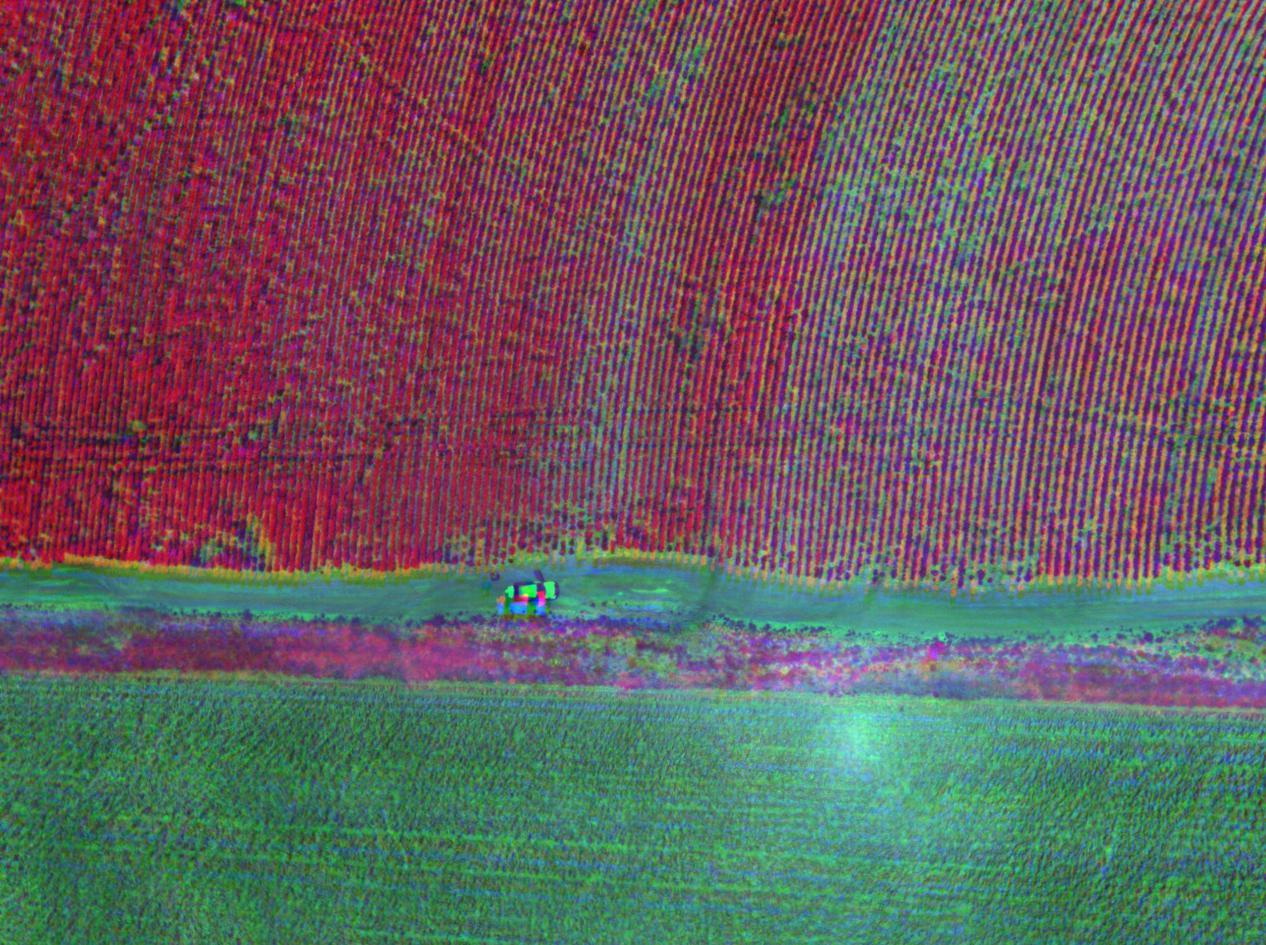dc: (838, 110, 958, 220), (1146, 3, 1266, 112), (1133, 155, 1237, 251), (1133, 488, 1240, 575), (983, 120, 1067, 192), (923, 5, 1014, 68)
